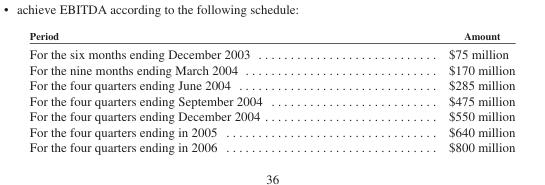table: (28, 29, 514, 154)
table column: (28, 29, 354, 154), (354, 29, 514, 154)
table column header: (28, 29, 514, 44)
table row: (28, 44, 514, 61), (28, 61, 514, 77), (28, 92, 514, 108), (28, 123, 514, 139), (28, 29, 514, 44), (28, 77, 514, 92), (28, 108, 514, 123), (28, 139, 514, 154)
